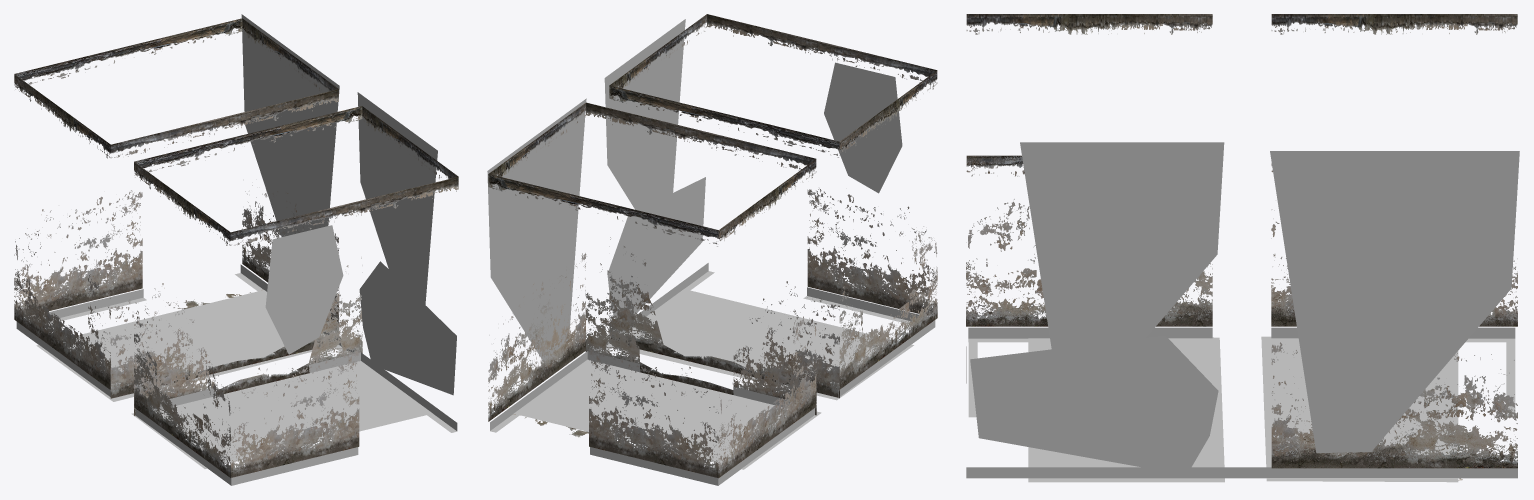
The model's file is H1-H2Passage_Decals.FBX.
3 views of the same model, side by side, from view 1: azimuth 30°, elevation 25°; view 2: azimuth 150°, elevation 25°; view 3: azimuth 270°, elevation 25° (orthographic). The views are drawn at different scales.
Parts seen in each view (by area): view 1: H1 to H2 Passage_De; view 2: H1 to H2 Passage_De; view 3: H1 to H2 Passage_De.
Part boxes in pixels (box(x1,y1,x2,y2)): H1 to H2 Passage_De: box(14, 14, 458, 485); H1 to H2 Passage_De: box(487, 14, 937, 485); H1 to H2 Passage_De: box(966, 14, 1519, 482).
Bounding box in the file's own units: 301 × 317 × 472.
